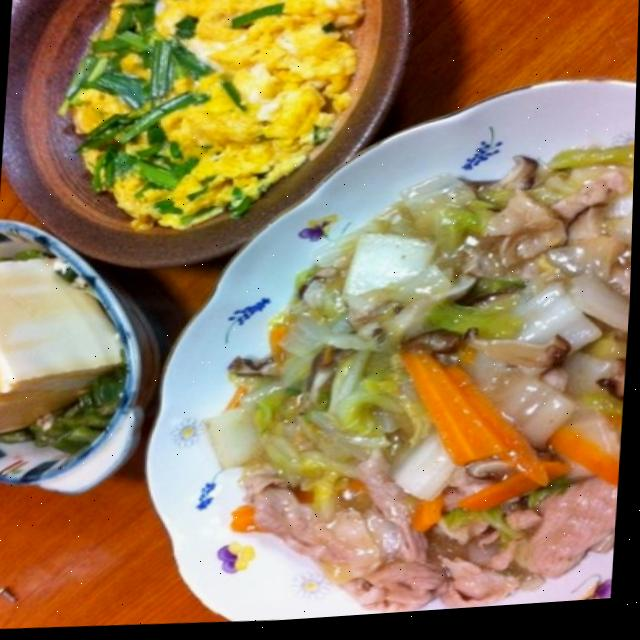牛肉菜式: (10, 0, 640, 639)
